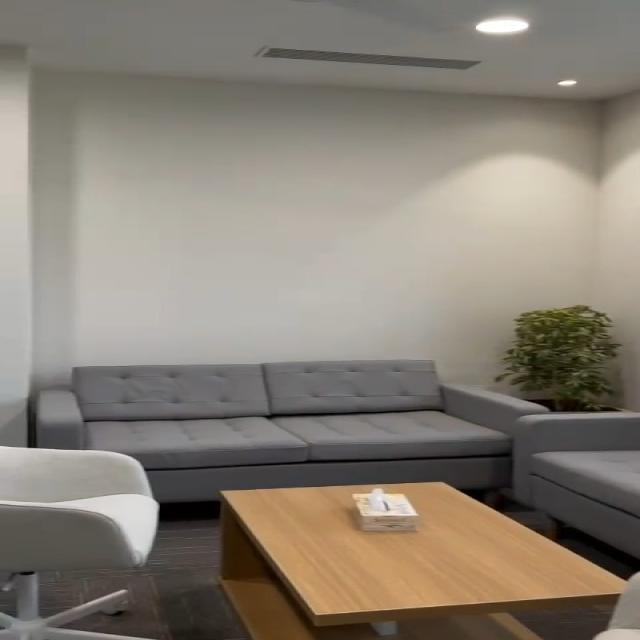furniture: (3, 344, 488, 498), (200, 476, 640, 640), (0, 440, 221, 640), (486, 311, 640, 448), (451, 403, 640, 507)
wall: (0, 46, 640, 312)
